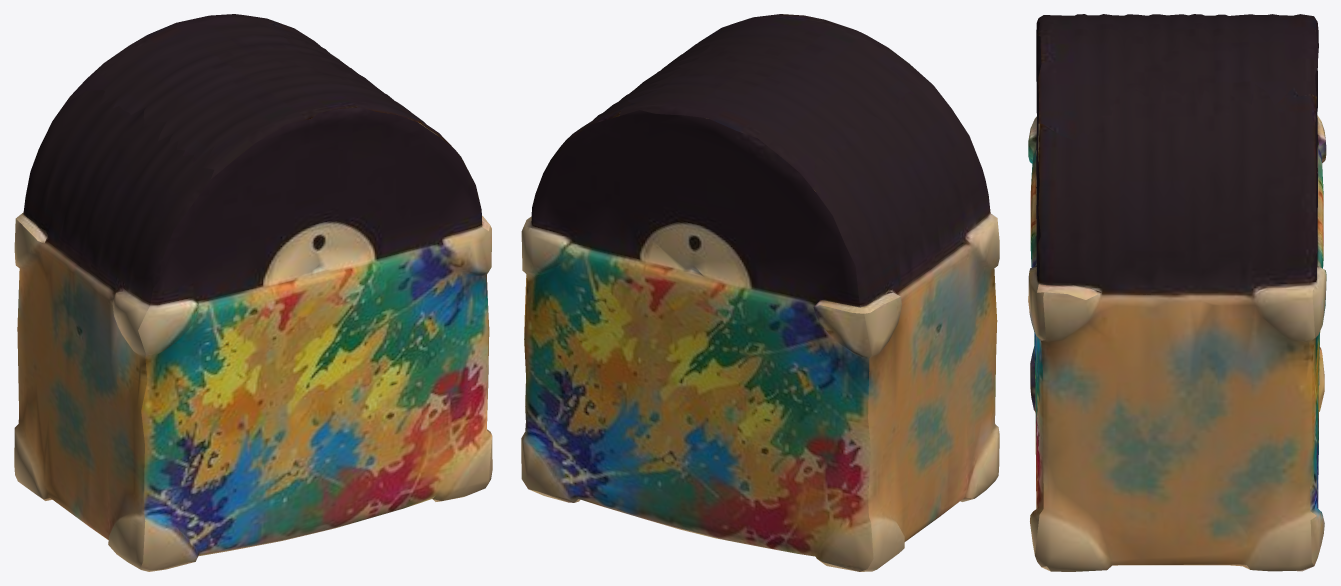
File: record.glb
3 views of the same model, side by side, from view 1: azimuth 30°, elevation 25°; view 2: azimuth 150°, elevation 25°; view 3: azimuth 270°, elevation 25° (orthographic). The views are drawn at different scales.
Visible parts, largest first — view 1: record; view 2: record; view 3: record.
Part boxes in pixels (x1,y1,x2,y2): record: (14, 14, 492, 571); record: (521, 14, 999, 571); record: (1028, 14, 1326, 571).
Size of the model in its own units: 0.8894 by 1 by 0.5983.
Materials: 1 (1 with a texture image).
